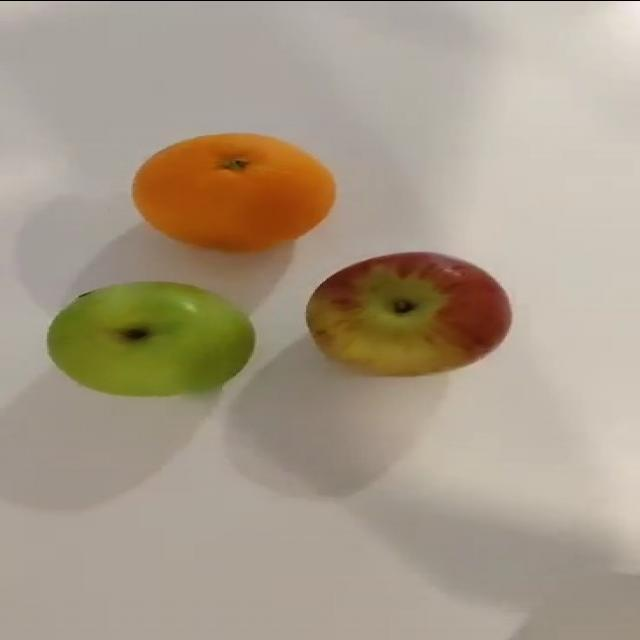Apple: (305, 250, 512, 376), (46, 280, 255, 397)
Orange: (131, 131, 336, 253)
